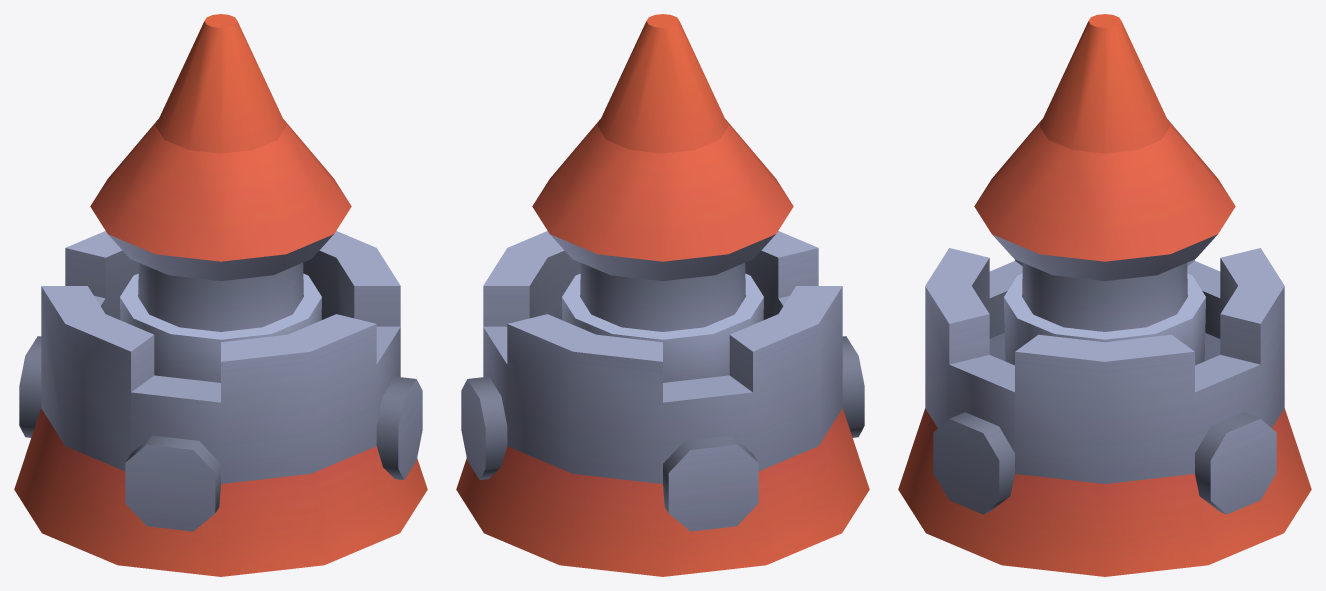
The model's file is kenney-tower-defense-tower-round-roof-a.glb.
3 views of the same model, side by side, from view 1: azimuth 30°, elevation 25°; view 2: azimuth 150°, elevation 25°; view 3: azimuth 270°, elevation 25° (orthographic).
Visible parts, largest first — view 1: tower-round-roof-a; view 2: tower-round-roof-a; view 3: tower-round-roof-a.
Part boxes in pixels (left/top/right/bottom): tower-round-roof-a: left=14, top=14, right=427, bottom=576; tower-round-roof-a: left=456, top=14, right=869, bottom=576; tower-round-roof-a: left=898, top=14, right=1311, bottom=576.
Size of the model in its own units: 0.9201 by 1.15 by 0.9201.
Materials: 1 (1 with a texture image).
